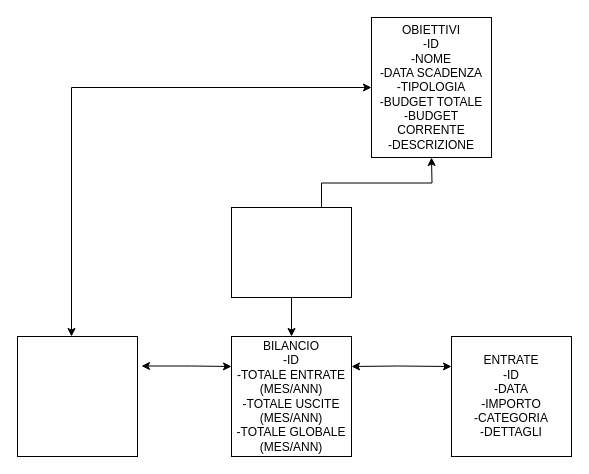
This 589x474 diagram has some shape labels left out. The box of each missing label's shape, as (x1, y1, x2, y2) in pixels:
USCITE -ID -DATA -IMPORTO -CATEGORIA -SCADENZA -DETTAGLI: (16, 336, 138, 456)
UTENTE -ID -NOME -COGNOME -MAIL: (230, 206, 352, 298)
